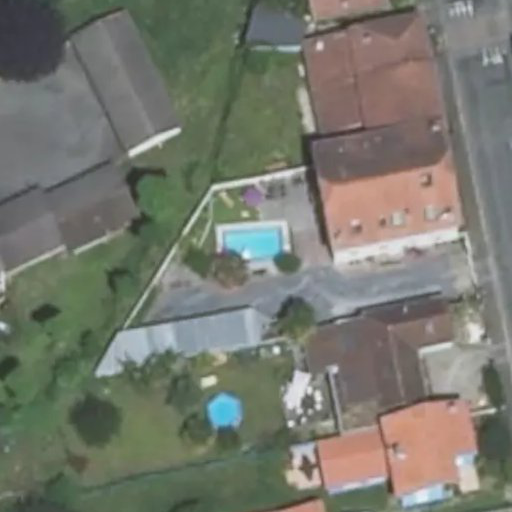pool: (225, 230, 285, 253)
